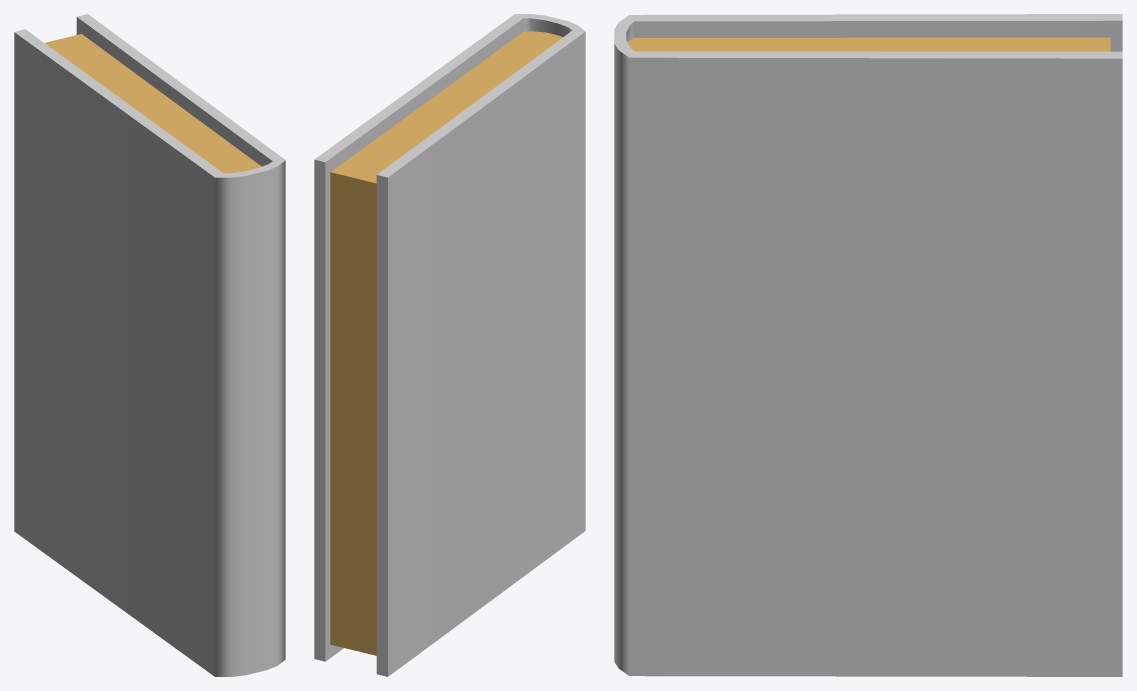
Rendered from book.glb.
The picture shows the model from 3 angles, left to right: view 1: azimuth 30°, elevation 25°; view 2: azimuth 150°, elevation 25°; view 3: azimuth 270°, elevation 25°; orthographic projection. The views are drawn at different scales.
Parts seen in each view (by area): view 1: BookClosed; view 2: BookClosed; view 3: BookClosed.
Boxes of the visible parts, x1,y1,x2,y2 form: BookClosed: (14, 14, 285, 676); BookClosed: (314, 14, 585, 676); BookClosed: (614, 14, 1122, 676).
Size of the model in its own units: 4.54 by 29.33 by 21.86.
